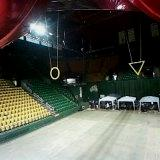Yellow_Circle_GShape: (50, 67, 60, 79)
Yellow_Triangle_Gshape: (128, 60, 144, 76)
